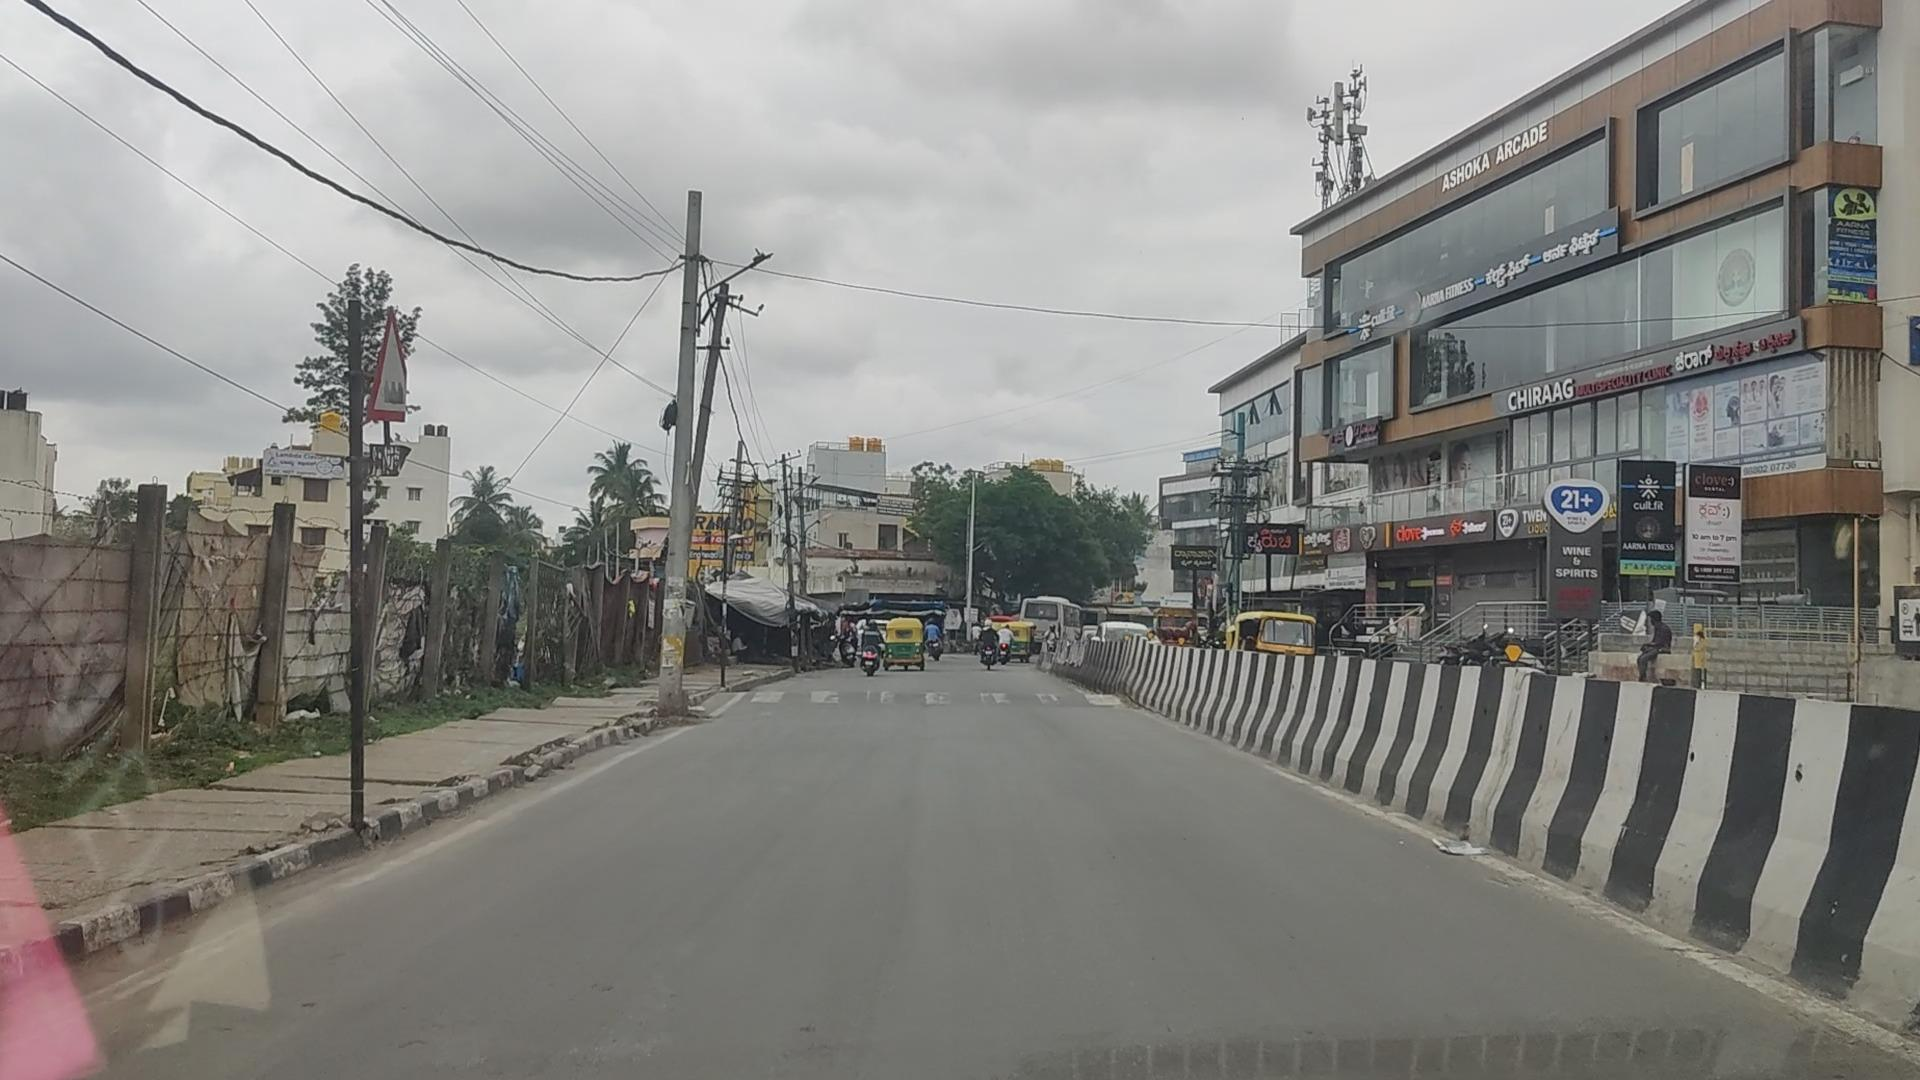LMV: (881, 620, 922, 670), (853, 622, 884, 673), (975, 624, 1001, 670)
SpeedBump: (748, 686, 1116, 709)
